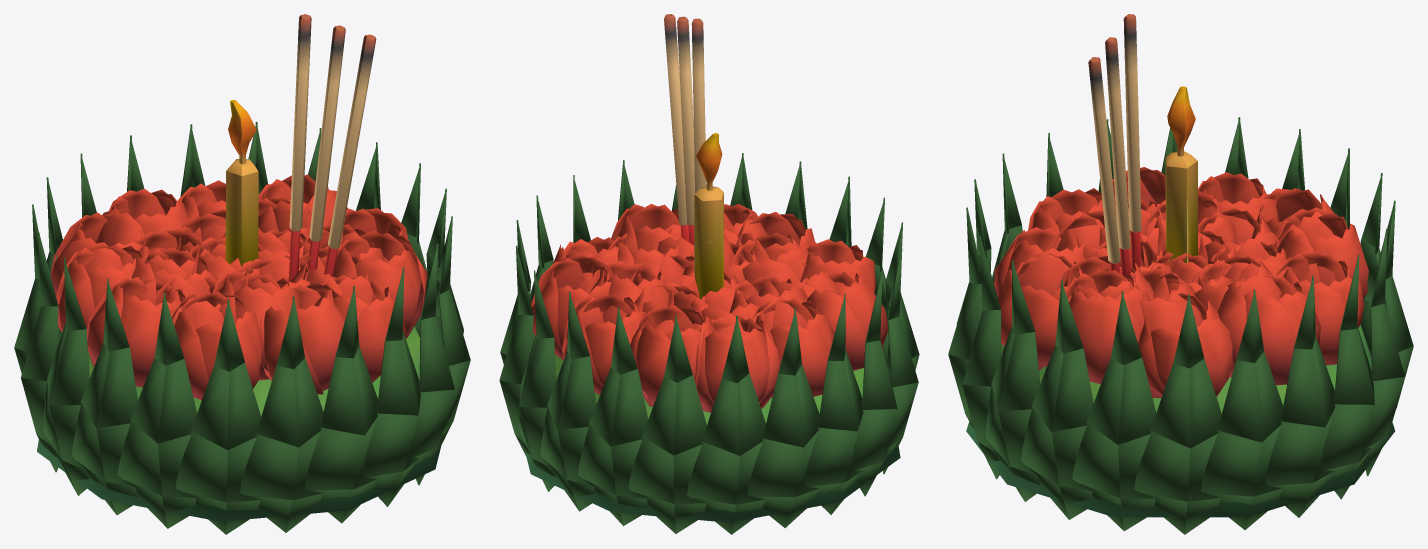
3 views of the same model, side by side, from view 1: azimuth 30°, elevation 25°; view 2: azimuth 150°, elevation 25°; view 3: azimuth 270°, elevation 25° (orthographic). The views are drawn at different scales.
Parts seen in each view (by area): view 1: Flower_017_Base_Material_0_002, Object_0_001, Flower_031_Base_Material_0_024, Flower_031_Base_Material_0_026, Flower_031_Base_Material_0_027, Flower_031_Base_Material_0_025, Flower_031_Base_Material_0_022, Flower_031_Base_Material_0_035, Flower_031_Base_Material_0_023, Flower_017_Base_Material_0, Flower_031_Base_Material_0_034, Flower_031_Base_Material_0_021 (+10 smaller); view 2: Flower_017_Base_Material_0_002, Object_0_001, Flower_031_Base_Material_0_036, Flower_031_Base_Material_0_037, Flower_031_Base_Material_0_001, Flower_031_Base_Material_0_038, Flower_031_Base_Material_0_039, Flower_031_Base_Material_0_021, Flower_031_Base_Material_0_023, Flower_031_Base_Material_0_030, Flower_017_Base_Material_0, Flower_031_Base_Material_0_022 (+9 smaller); view 3: Flower_017_Base_Material_0_002, Object_0_001, Flower_031_Base_Material_0_028, Flower_031_Base_Material_0_033, Flower_031_Base_Material_0_029, Flower_031_Base_Material_0_032, Flower_031_Base_Material_0_031, Flower_031_Base_Material_0_034, Flower_031_Base_Material_0_030, Flower_017_Base_Material_0, Flower_031_Base_Material_0_039, Flower_031_Base_Material_0_035 (+9 smaller).
Part boxes in pixels (x1,y1,x2,y2): Flower_017_Base_Material_0_002: (50, 174, 427, 400); Object_0_001: (225, 14, 376, 281); Flower_031_Base_Material_0_024: (240, 296, 323, 532); Flower_031_Base_Material_0_026: (175, 299, 261, 534); Flower_031_Base_Material_0_027: (117, 293, 197, 528); Flower_031_Base_Material_0_025: (305, 286, 377, 523); Flower_031_Base_Material_0_022: (72, 279, 137, 514); Flower_031_Base_Material_0_035: (363, 267, 420, 506); Flower_031_Base_Material_0_023: (42, 257, 89, 495); Flower_017_Base_Material_0: (37, 326, 441, 521); Flower_031_Base_Material_0_034: (410, 243, 454, 485); Flower_031_Base_Material_0_021: (21, 232, 58, 472); Flower_017_Base_Material_0_002: (531, 204, 888, 412); Object_0_001: (664, 14, 723, 299); Flower_031_Base_Material_0_036: (628, 315, 706, 533); Flower_031_Base_Material_0_037: (687, 316, 765, 534); Flower_031_Base_Material_0_001: (747, 308, 819, 527); Flower_031_Base_Material_0_038: (578, 307, 648, 525); Flower_031_Base_Material_0_039: (540, 291, 596, 511); Flower_031_Base_Material_0_021: (804, 293, 863, 514); Flower_031_Base_Material_0_023: (852, 272, 897, 496); Flower_031_Base_Material_0_030: (519, 270, 555, 491); Flower_017_Base_Material_0: (525, 355, 900, 522); Flower_031_Base_Material_0_022: (883, 248, 918, 474); Flower_017_Base_Material_0_002: (994, 167, 1368, 397); Object_0_001: (1088, 14, 1198, 276); Flower_031_Base_Material_0_028: (1134, 294, 1221, 534); Flower_031_Base_Material_0_033: (1072, 291, 1156, 531); Flower_031_Base_Material_0_029: (1201, 289, 1283, 529); Flower_031_Base_Material_0_032: (1021, 279, 1093, 519); Flower_031_Base_Material_0_031: (1265, 275, 1335, 517); Flower_031_Base_Material_0_034: (985, 260, 1039, 501); Flower_031_Base_Material_0_030: (1321, 254, 1374, 499); Flower_017_Base_Material_0: (966, 325, 1394, 517); Flower_031_Base_Material_0_039: (1364, 228, 1405, 475); Flower_031_Base_Material_0_035: (962, 235, 1001, 479).
Size of the model in its own units: 0.1863 by 0.201 by 0.1863.
Materials: 23 (23 with a texture image).
